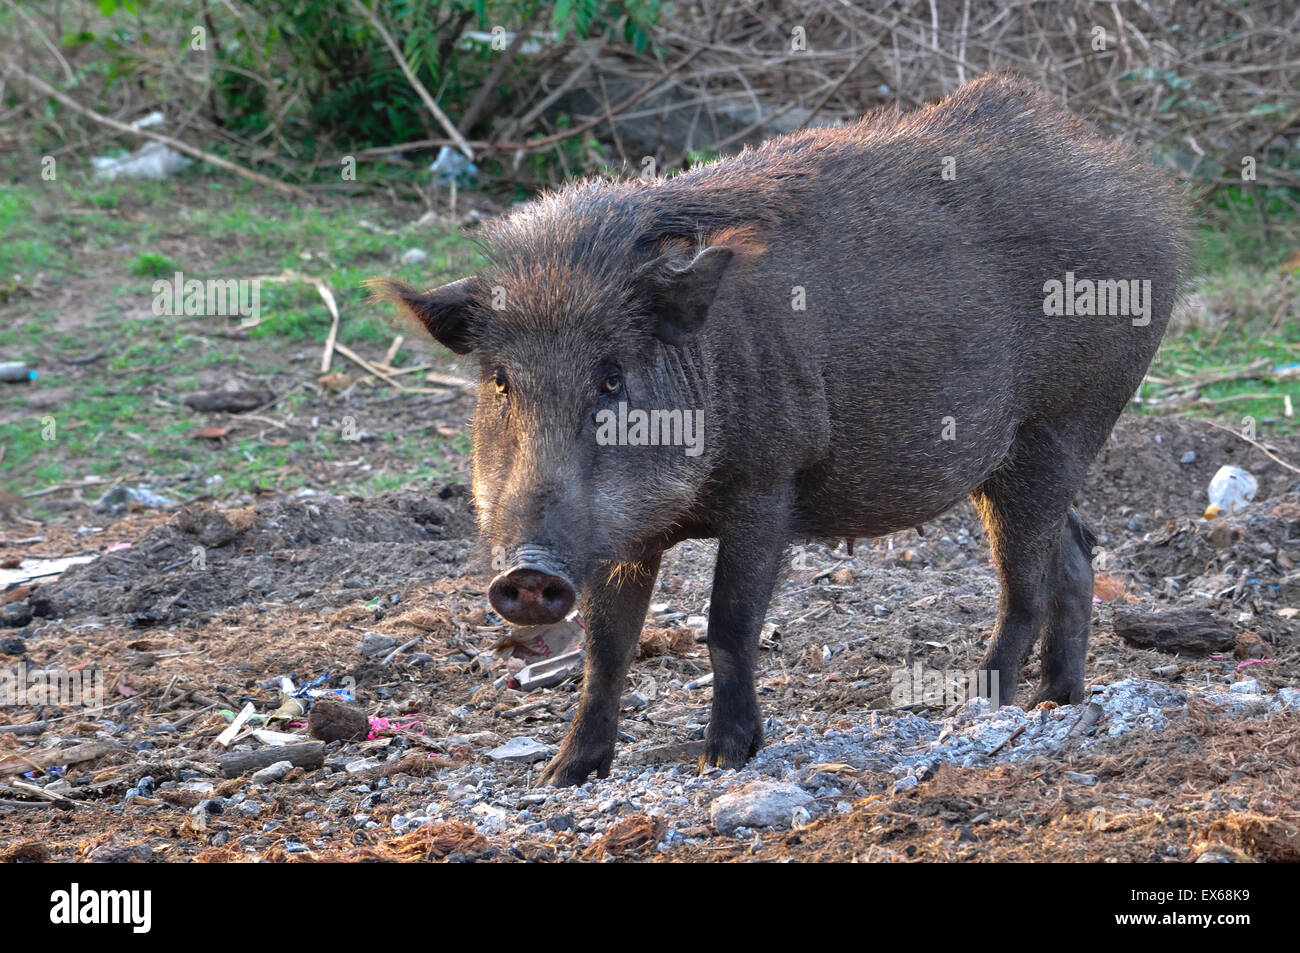wild boar: (365, 71, 1195, 812)
